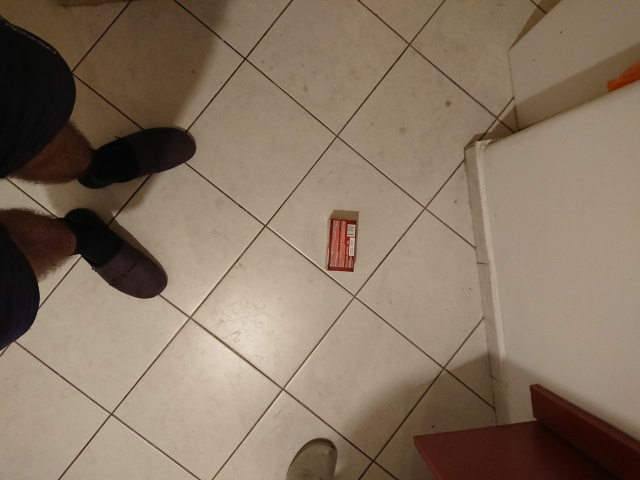Franck Apple Cinnamon Tea 60g: (322, 215, 360, 275)
